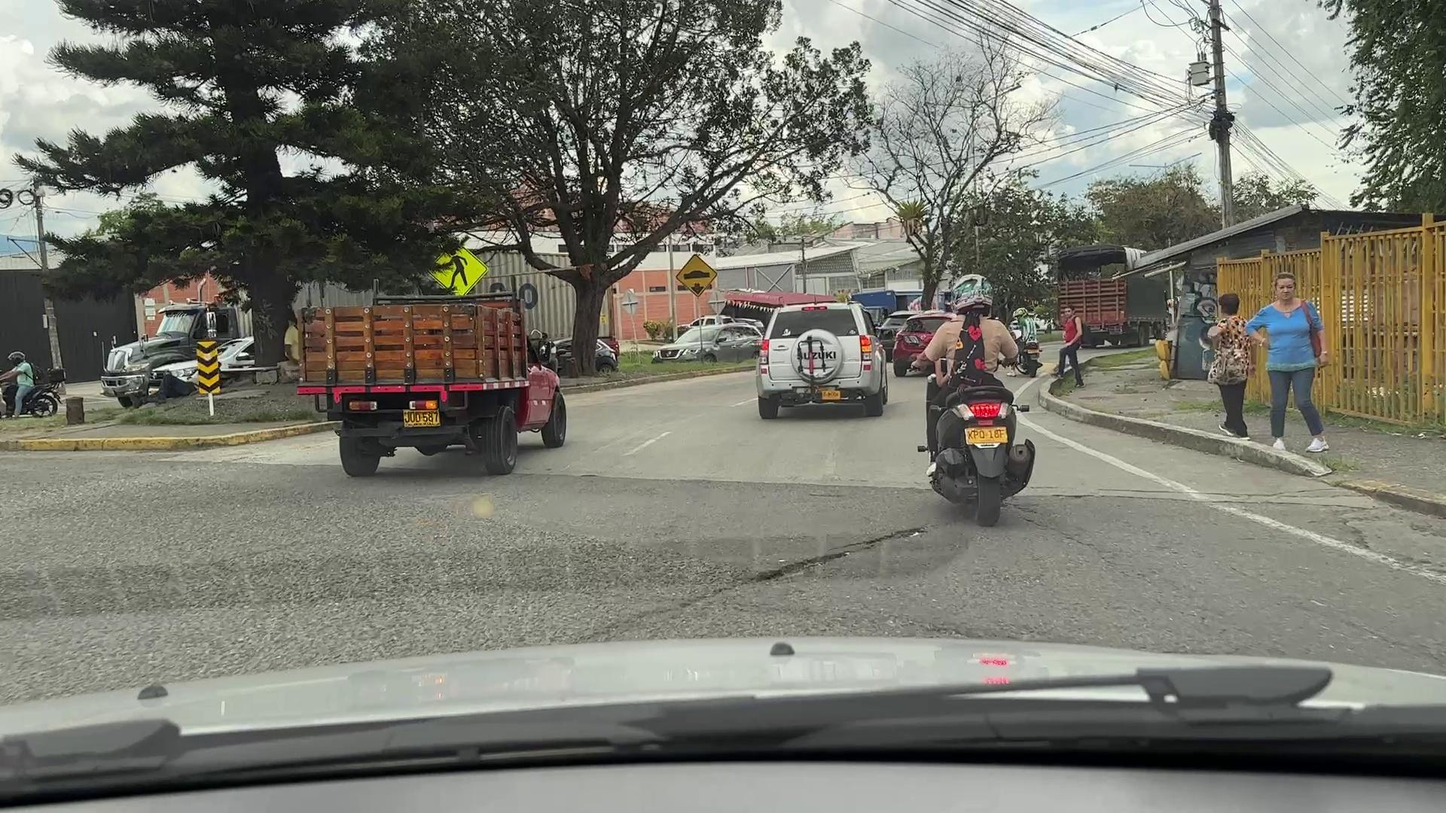bache: (738, 551, 854, 586), (832, 524, 928, 550)
